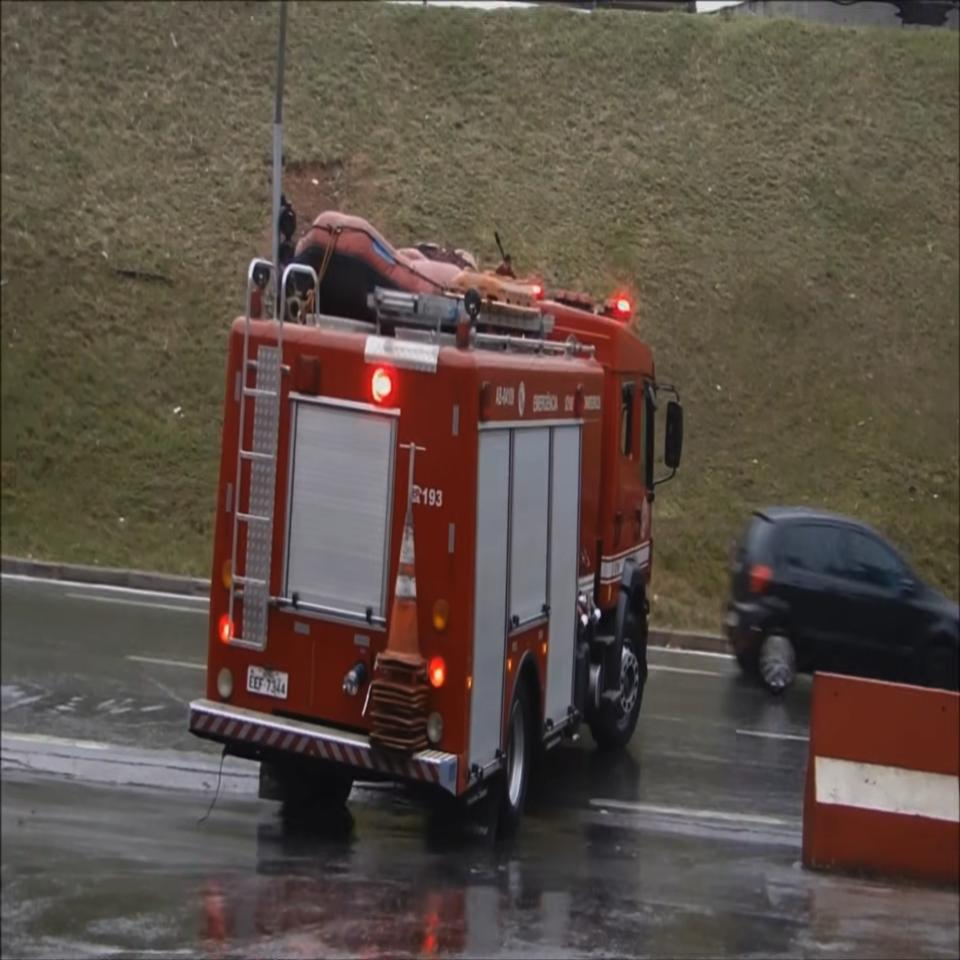viatura: (186, 208, 686, 850)
